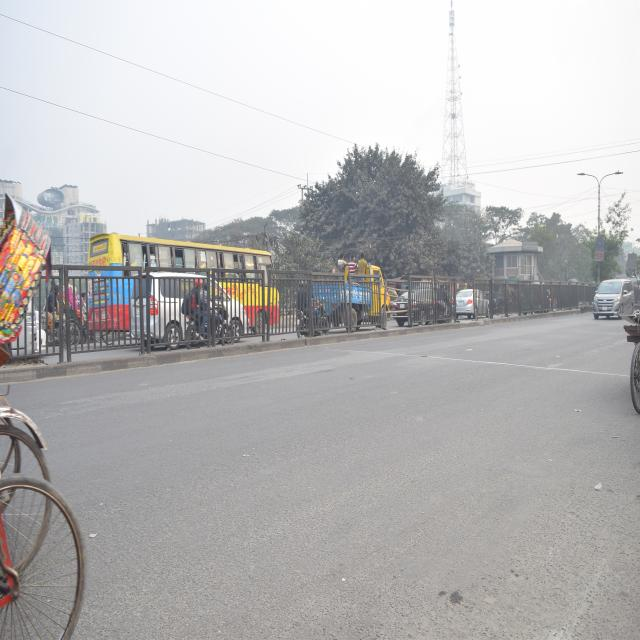bus: (80, 236, 276, 335)
car: (450, 278, 491, 319)
microbus: (128, 266, 245, 336), (591, 276, 640, 328)
motorbike: (180, 298, 236, 349), (291, 300, 331, 342)
truck: (314, 263, 390, 327)
